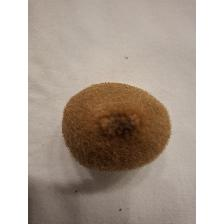Kiwi: (58, 78, 176, 174)
